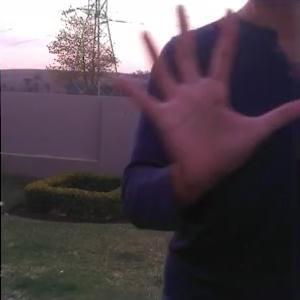follow_hand: (109, 0, 299, 187)
